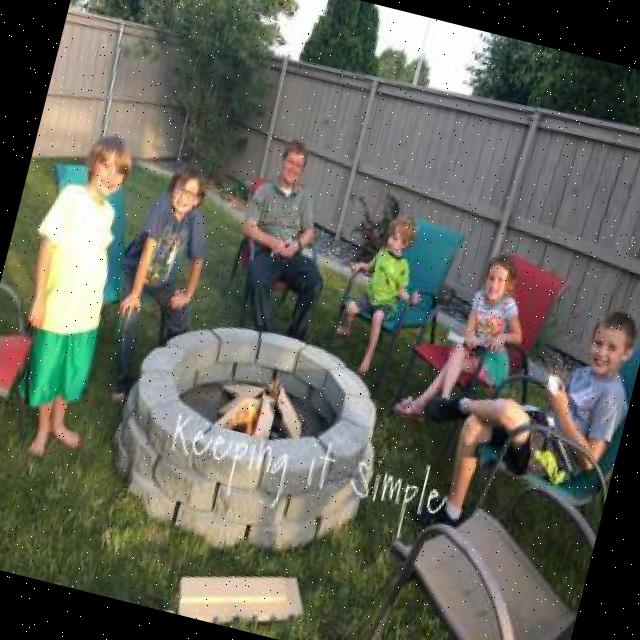fire: (214, 388, 268, 436)
